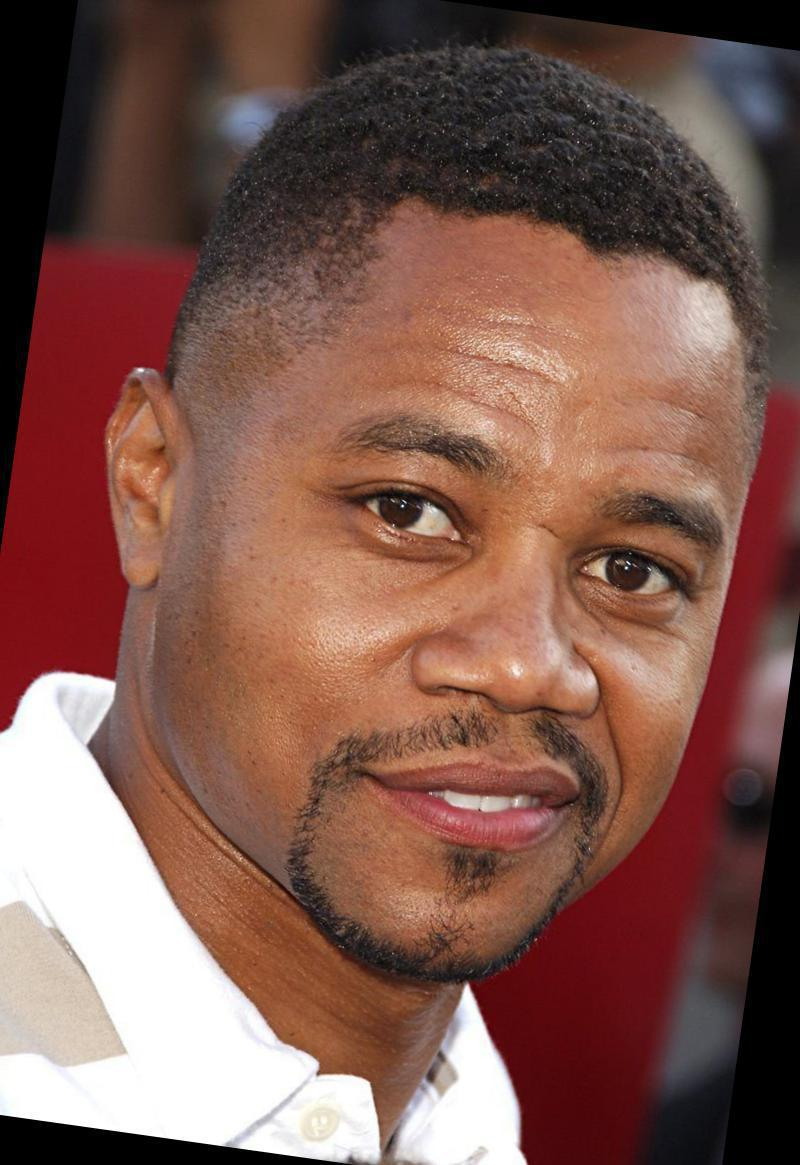Sober: (226, 211, 709, 943)
